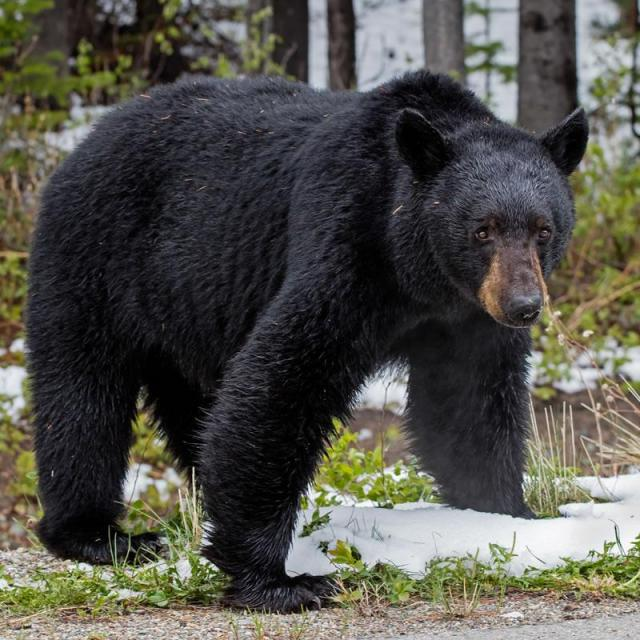Bear: (23, 70, 589, 615)
